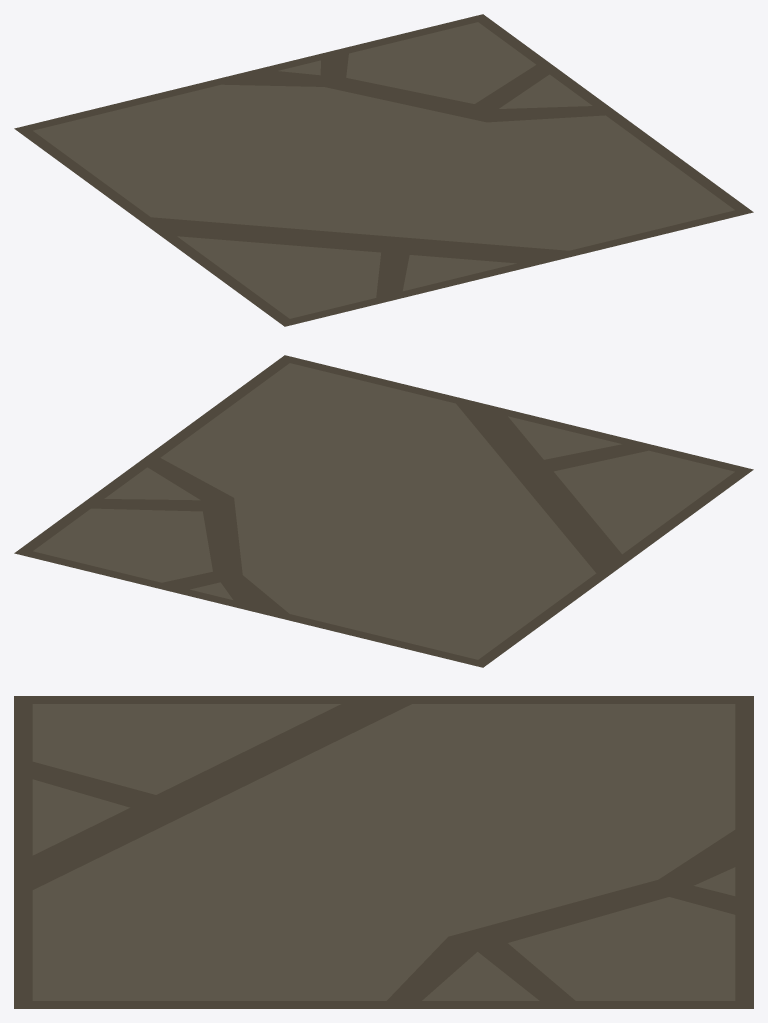
Rendered from SD_Env_Undead_Floor_03.fbx.
The picture shows the model from 3 angles, top to bottom: view 1: azimuth 30°, elevation 25°; view 2: azimuth 150°, elevation 25°; view 3: azimuth 270°, elevation 25°; orthographic projection. The views are drawn at different scales.
Visible parts, largest first — view 1: SD_Env_Undead_Floor_03; view 2: SD_Env_Undead_Floor_03; view 3: SD_Env_Undead_Floor_03.
Part boxes in pixels (x1,y1,x2,y2): SD_Env_Undead_Floor_03: (14, 14, 753, 326); SD_Env_Undead_Floor_03: (14, 355, 753, 667); SD_Env_Undead_Floor_03: (14, 696, 753, 1008).
Bounding box in the file's own units: 5 × 0 × 5.
